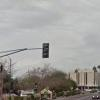Traffic light: (36, 33, 52, 70)
